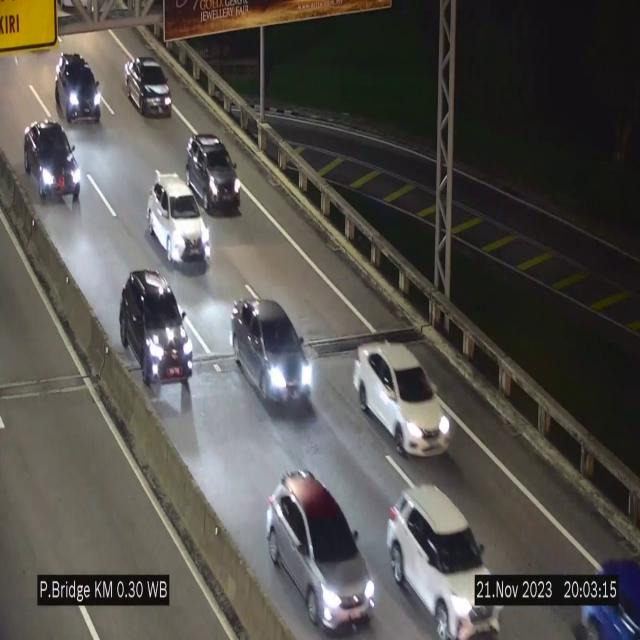Car: (266, 471, 376, 629), (388, 487, 498, 639), (354, 343, 452, 455), (114, 270, 194, 392), (231, 298, 318, 409), (147, 172, 210, 270), (186, 125, 242, 219), (22, 119, 84, 202), (54, 51, 103, 121), (124, 57, 172, 115)
